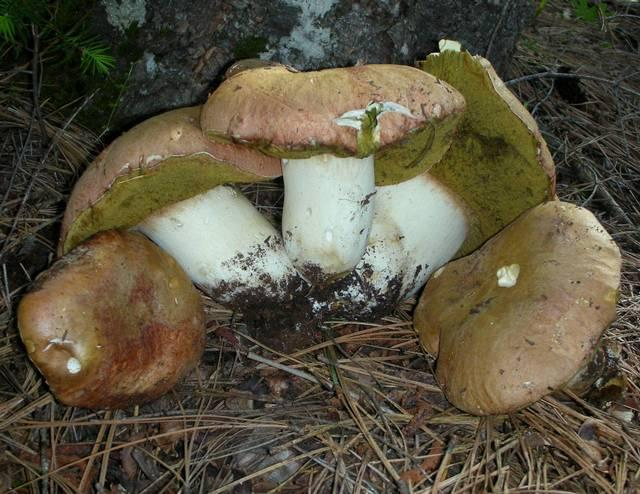Edible Mushroom: (199, 58, 467, 287), (56, 104, 300, 312), (412, 197, 622, 416), (15, 227, 206, 409)
